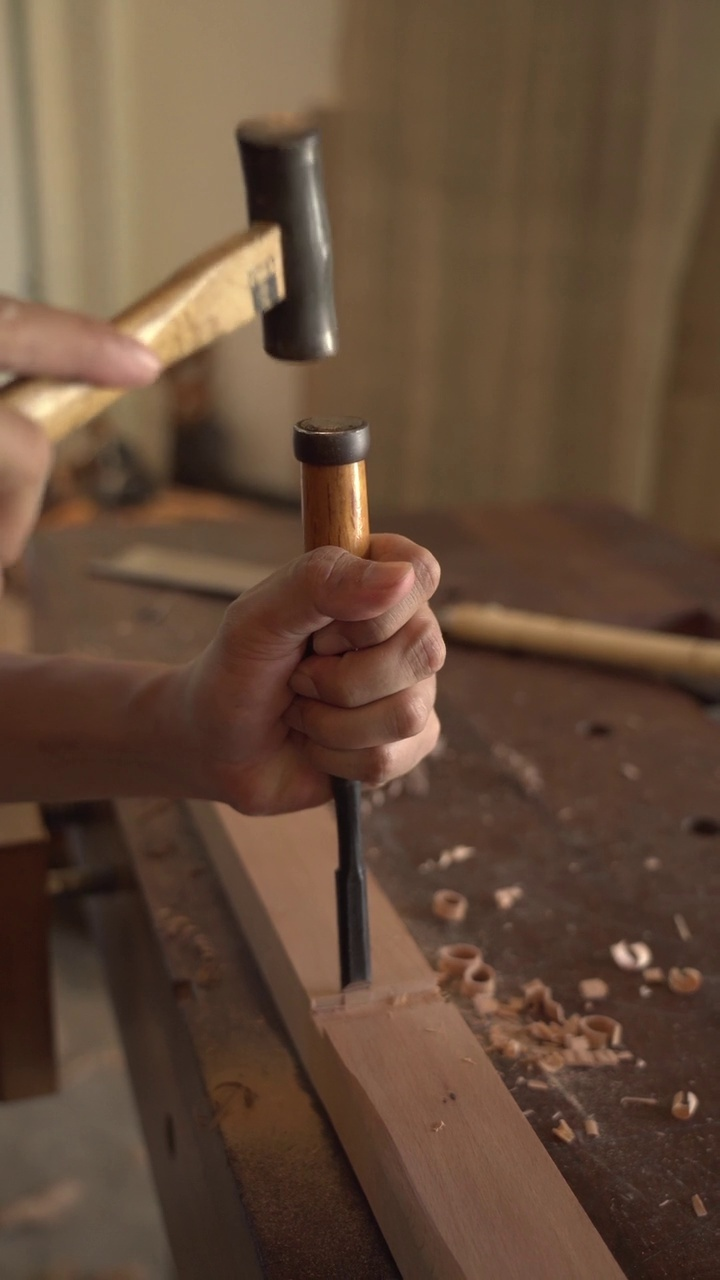hammer: (5, 106, 346, 470)
